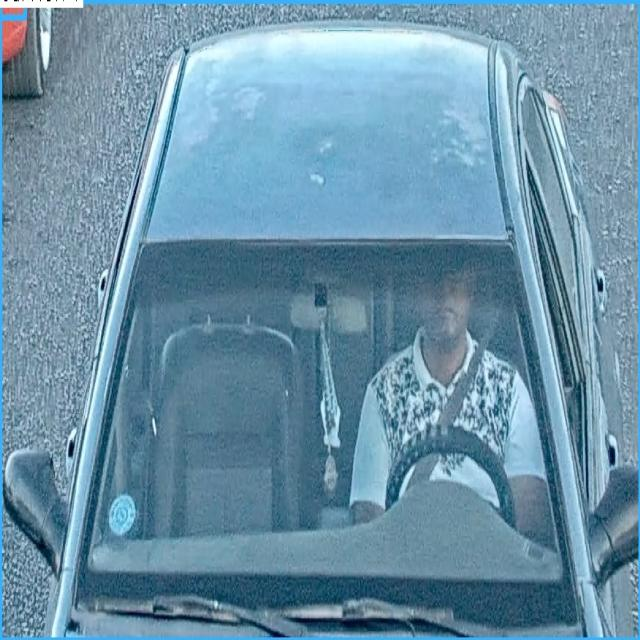windshield: (68, 245, 576, 636)
